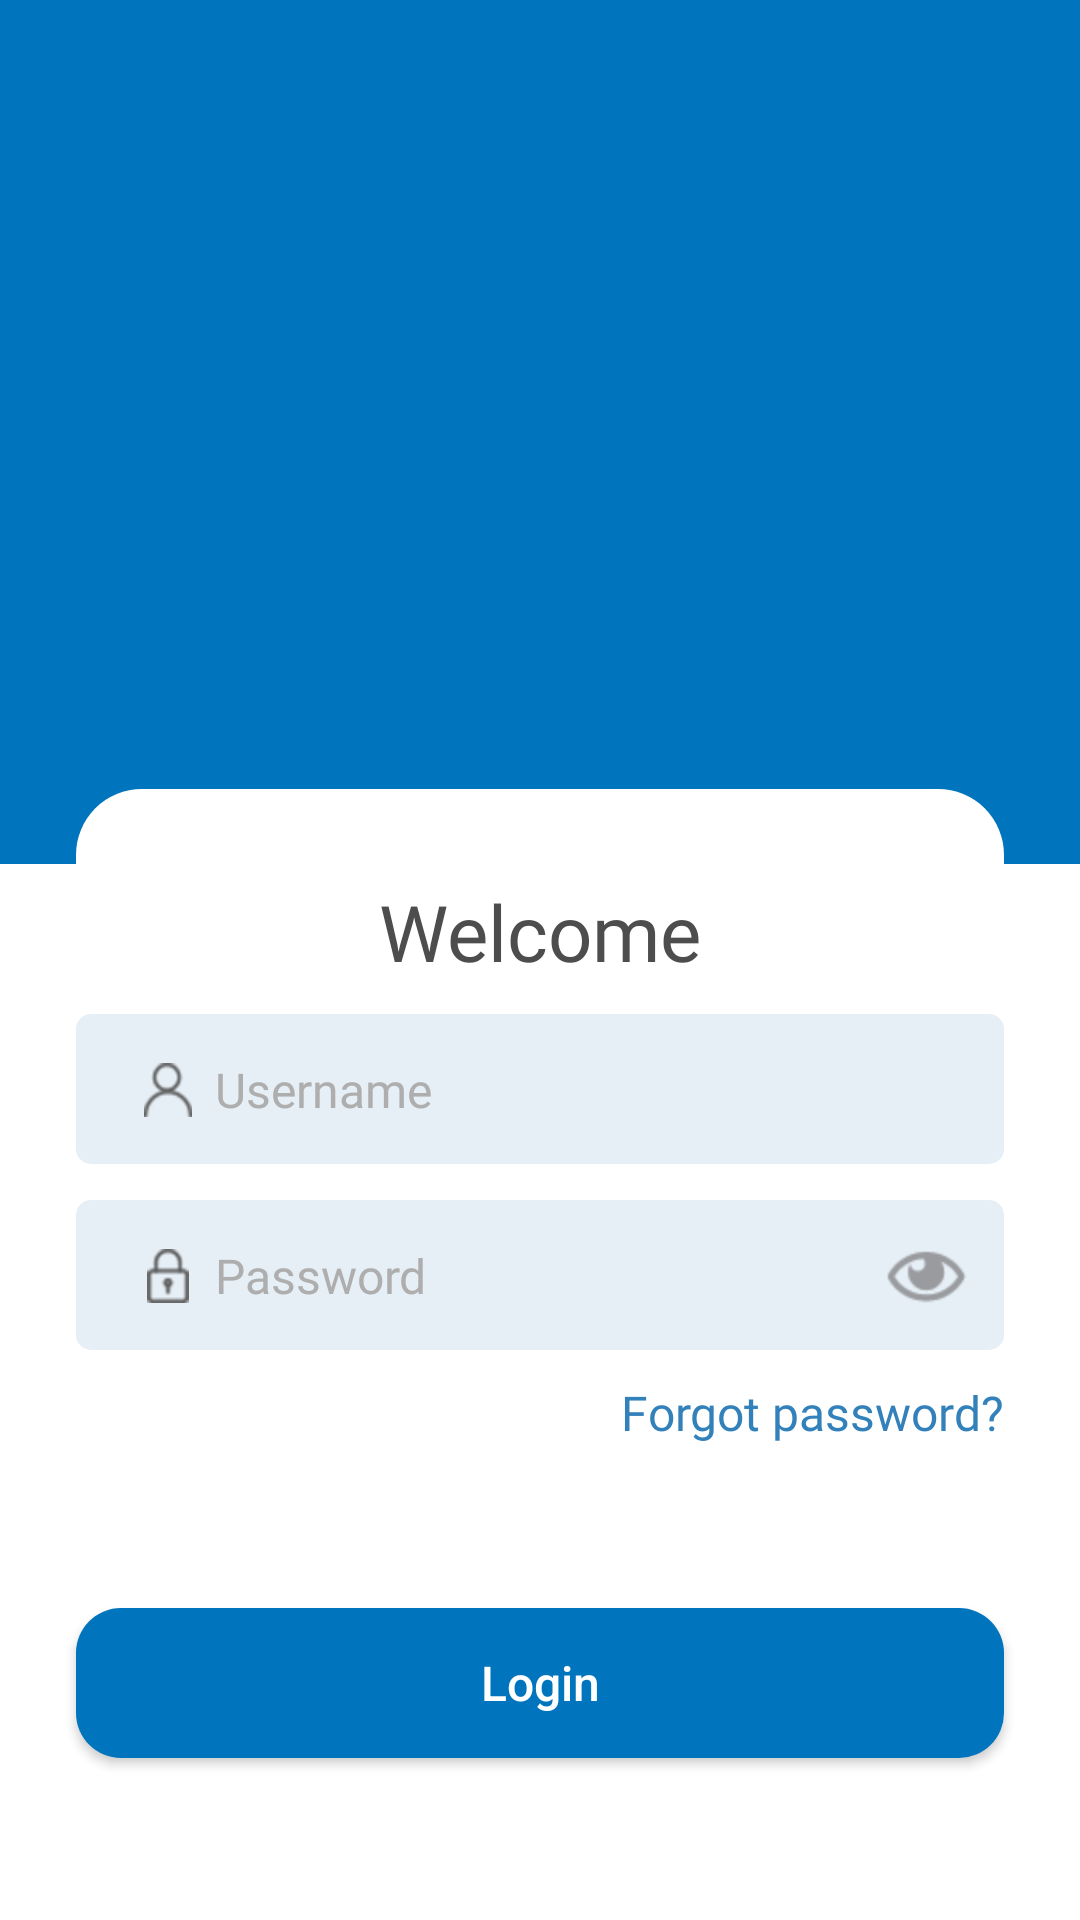

Icon click points for this 1080×1920 phone screenshot, format [x,y]:
pass show: [926,1277]
